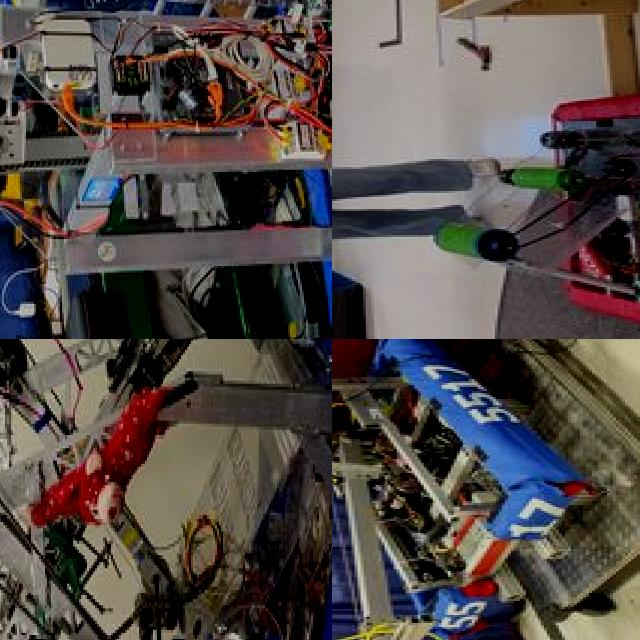FRC-Robots: (0, 0, 332, 312), (0, 339, 332, 640), (332, 339, 570, 640), (459, 81, 640, 339)
